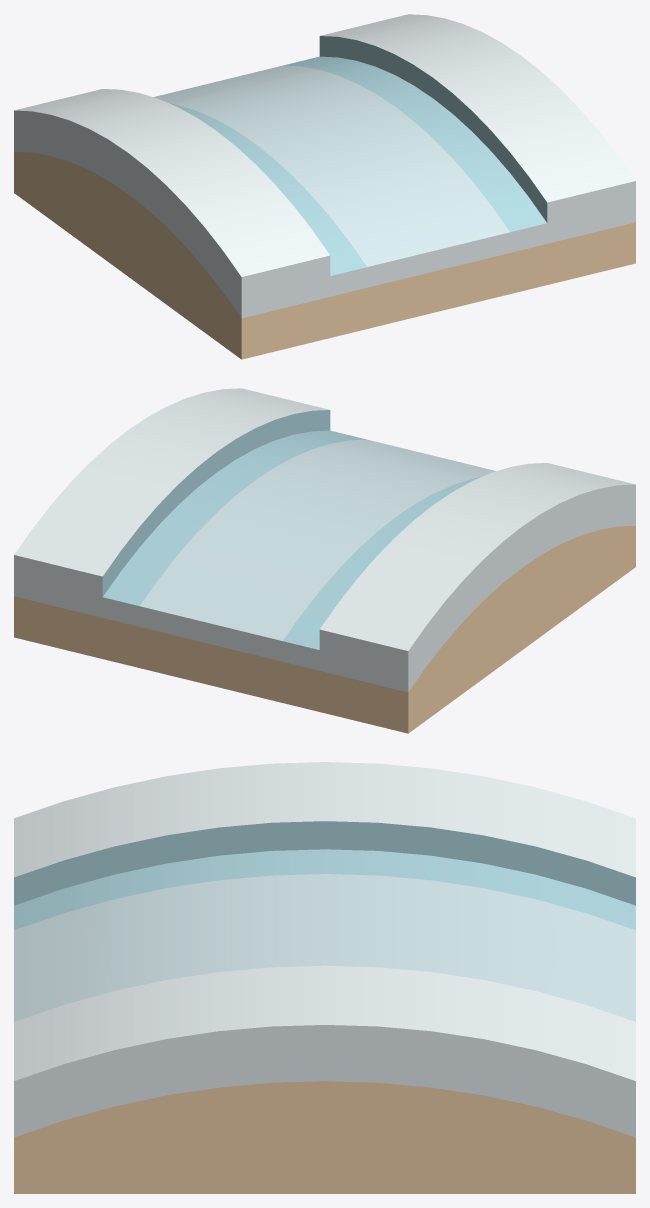
File: snow_tile_bump.glb
The picture shows the model from 3 angles, top to bottom: view 1: azimuth 30°, elevation 25°; view 2: azimuth 150°, elevation 25°; view 3: azimuth 270°, elevation 25°; orthographic projection. The views are drawn at different scales.
Parts seen in each view (by area): view 1: snow_tile_bump; view 2: snow_tile_bump; view 3: snow_tile_bump.
Part boxes in pixels (box(x1,y1,x2,y2)): snow_tile_bump: box(14, 14, 635, 359); snow_tile_bump: box(14, 388, 635, 733); snow_tile_bump: box(14, 762, 635, 1193).
Size of the model in its own units: 1 by 0.3 by 1.
